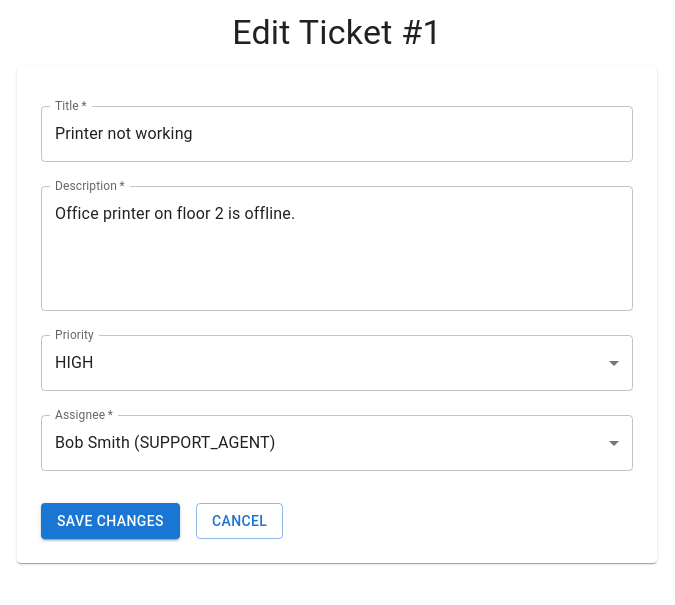
Test: EditTicketPage › shows client-side validation errors when title is blank
Clear the field labelled "Title *". click: coordinates (337, 134)
box: [41, 106, 633, 162]
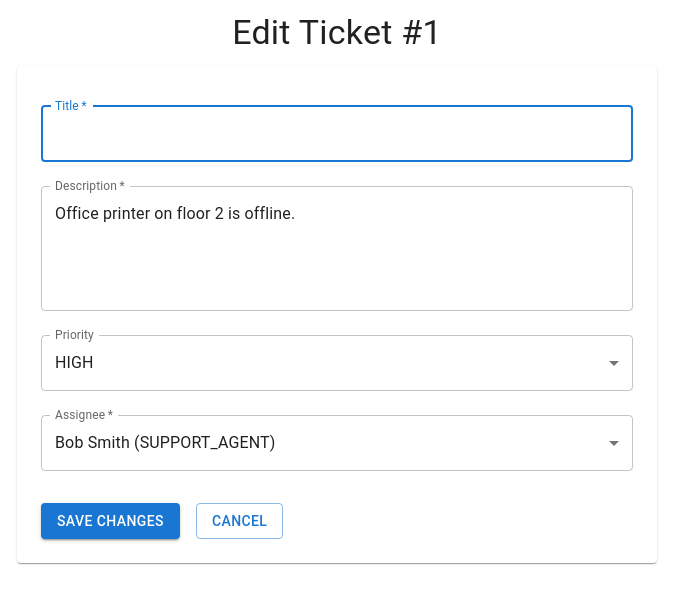
Click the button "Save Changes". click: coordinates (110, 521)
box: [41, 503, 180, 539]
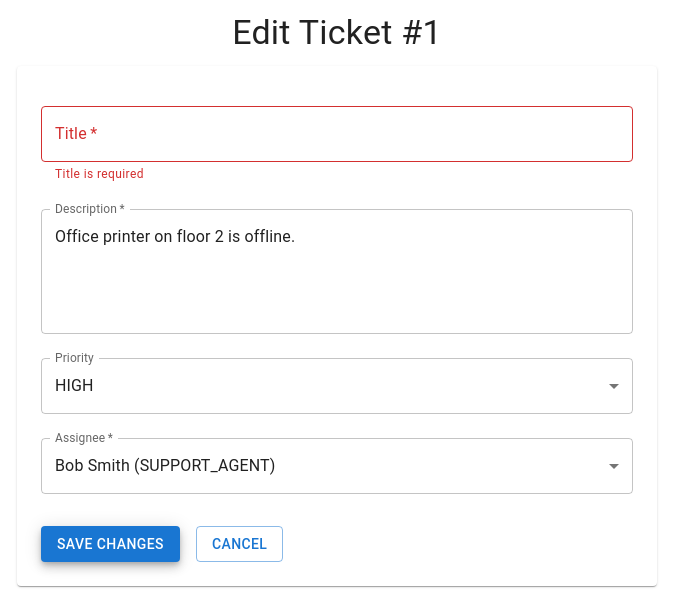
Expected: the text "Title is required" is shown, [55, 167, 144, 181]
